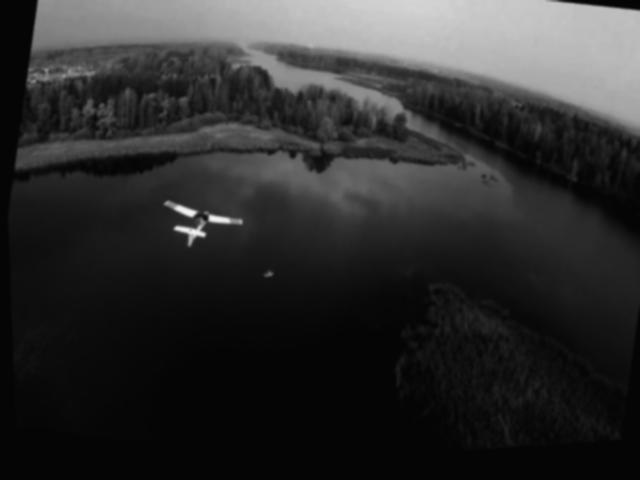hedef: (147, 196, 249, 272)
